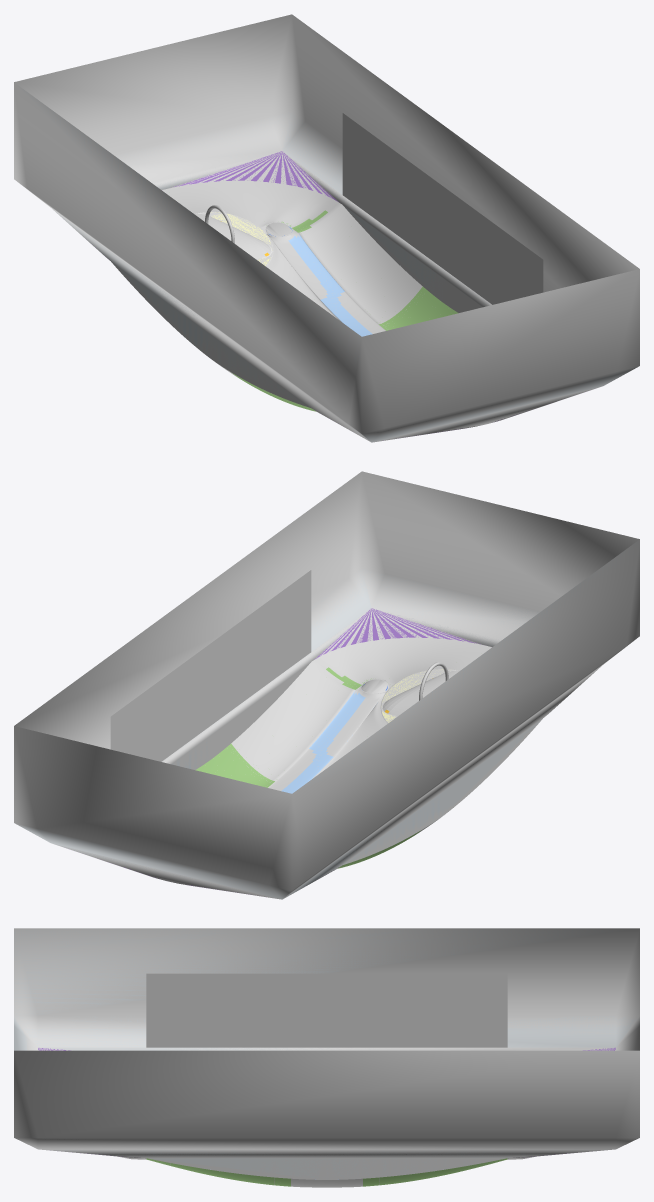
Rendered from arena.glb.
The picture shows the model from 3 angles, top to bottom: view 1: azimuth 30°, elevation 25°; view 2: azimuth 150°, elevation 25°; view 3: azimuth 270°, elevation 25°; orthographic projection. The views are drawn at different scales.
Parts seen in each view (by area): view 1: COL_Barriers, COL_Court, VIS_Corner NE, VIS_Outer_Field_Wall_Organic, VIS_Stream_Organic; view 2: COL_Barriers, COL_Court, VIS_Corner SE, VIS_Outer_Field_Wall_Organic, VIS_Stream_Organic; view 3: COL_Barriers, VIS_Outer_Field_Wall_Organic, COL_Court.
Boxes of the visible parts, <box> form: COL_Barriers: <box>14,14,639,442</box>; COL_Court: <box>162,180,422,378</box>; VIS_Corner NE: <box>173,151,338,201</box>; VIS_Outer_Field_Wall_Organic: <box>232,286,458,411</box>; VIS_Stream_Organic: <box>288,234,372,336</box>; COL_Barriers: <box>14,471,639,899</box>; COL_Court: <box>231,637,491,835</box>; VIS_Corner SE: <box>314,608,480,659</box>; VIS_Outer_Field_Wall_Organic: <box>195,743,421,868</box>; VIS_Stream_Organic: <box>281,691,365,793</box>; COL_Barriers: <box>14,928,639,1179</box>; VIS_Outer_Field_Wall_Organic: <box>146,1158,507,1186</box>; COL_Court: <box>119,1156,534,1187</box>.
Size of the model in its own units: 60 by 38 by 130.
